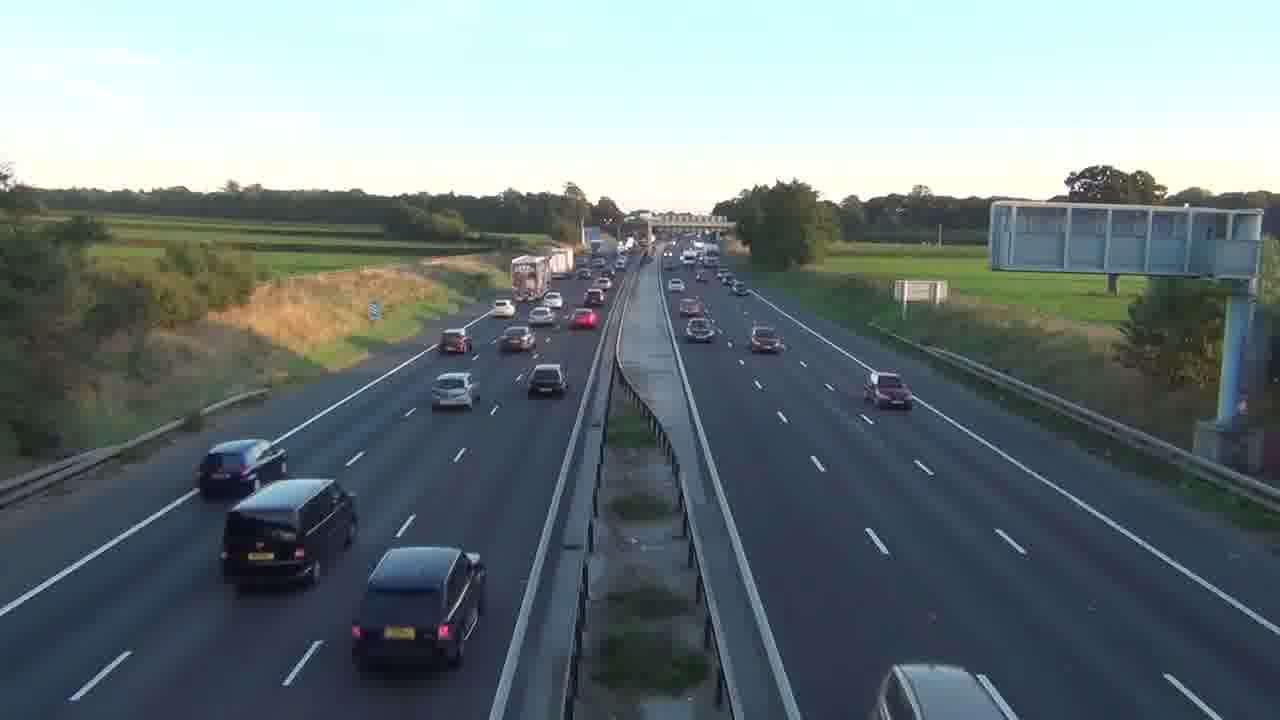car: (350, 544, 487, 671), (868, 661, 1021, 719), (863, 371, 912, 411), (430, 371, 475, 410), (527, 364, 567, 398), (750, 324, 786, 355), (684, 318, 715, 342), (570, 308, 599, 331)
truck: (221, 476, 358, 587), (430, 371, 475, 410)
